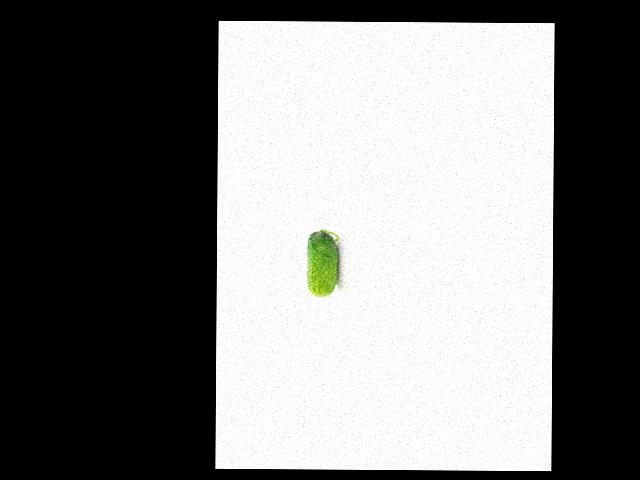cucumber: (307, 230, 339, 298)
